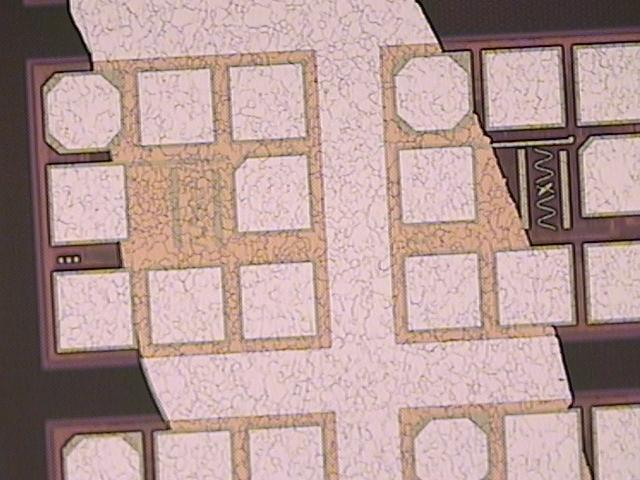BLOCK ETCH: (64, 1, 607, 480)
